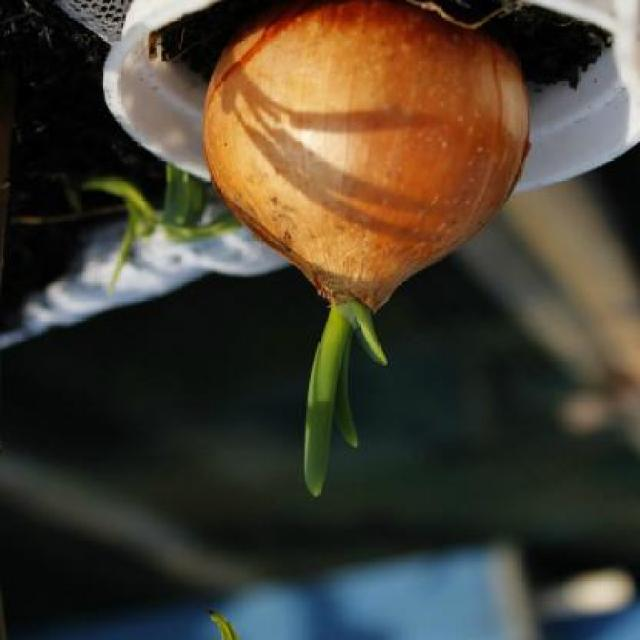onion: (193, 12, 532, 510)
